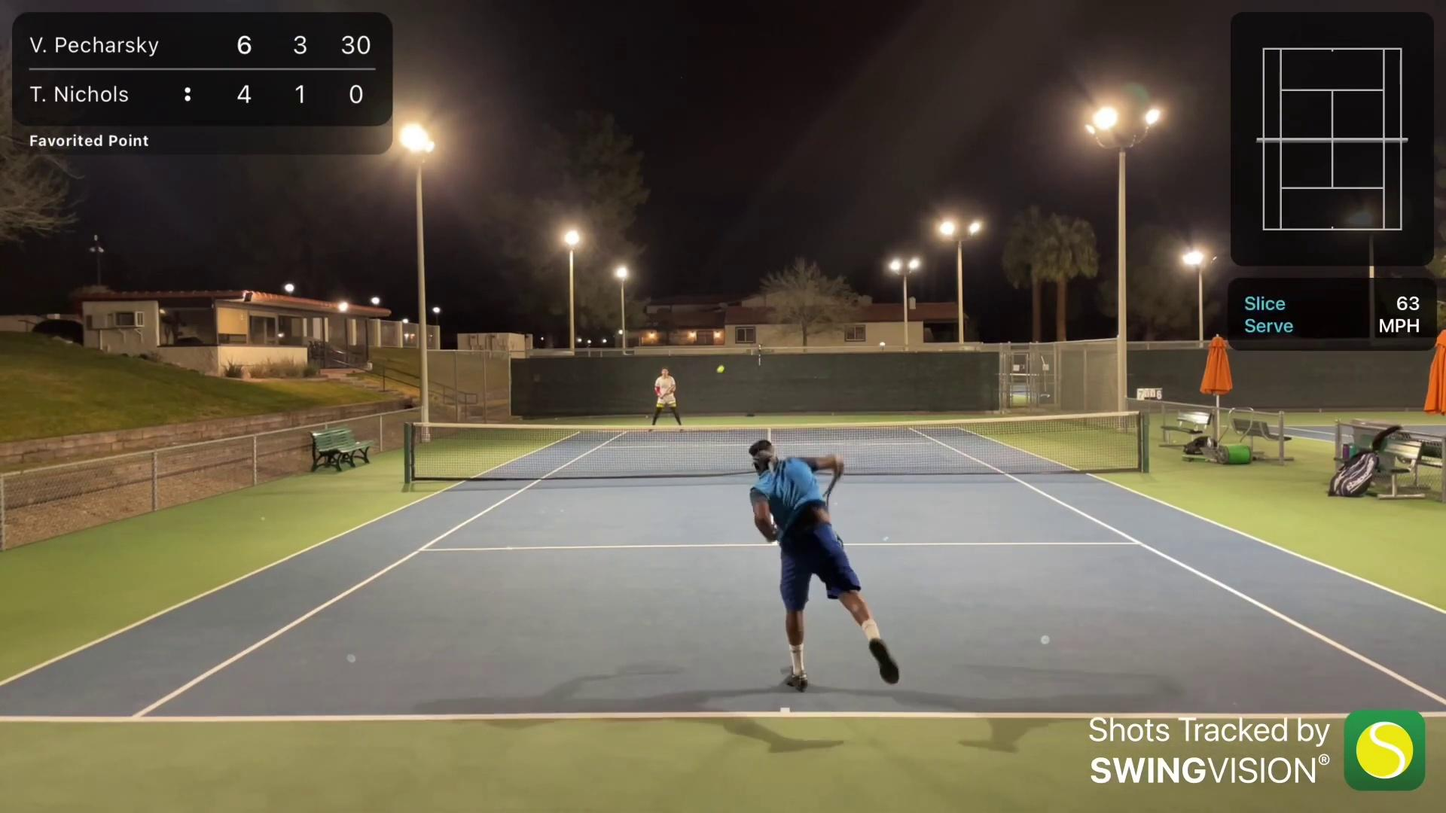ball: (721, 368, 723, 371)
